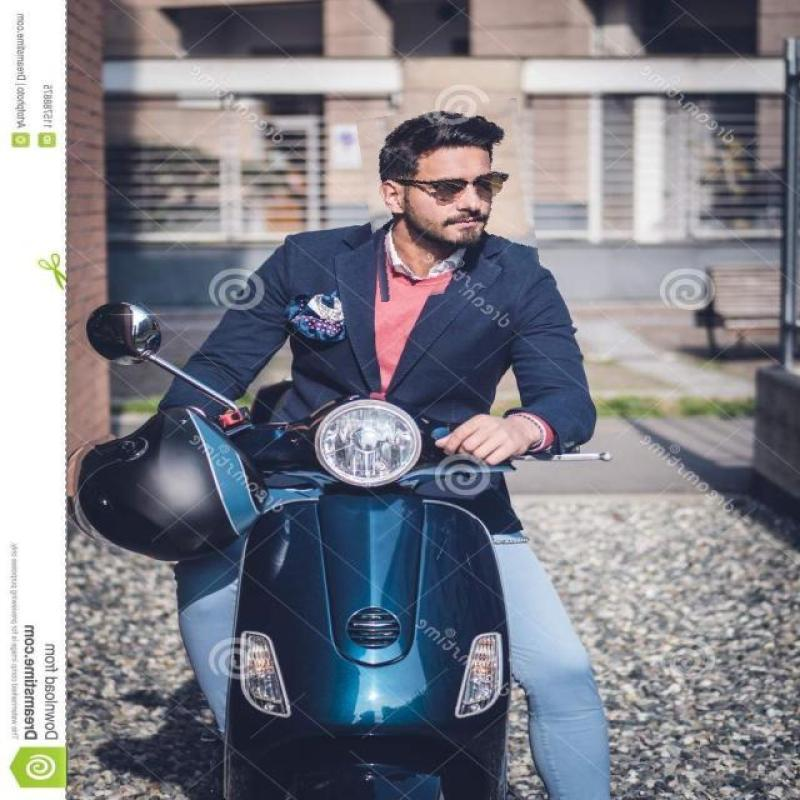nohelmet: (362, 102, 536, 298)
